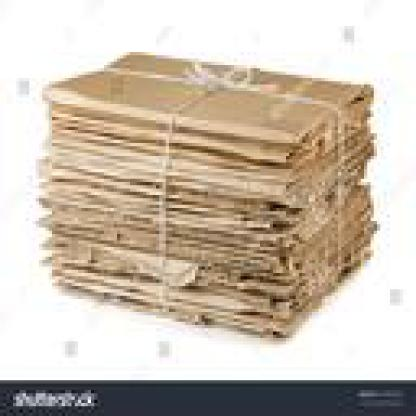CARDBOARD: (36, 49, 374, 338)
